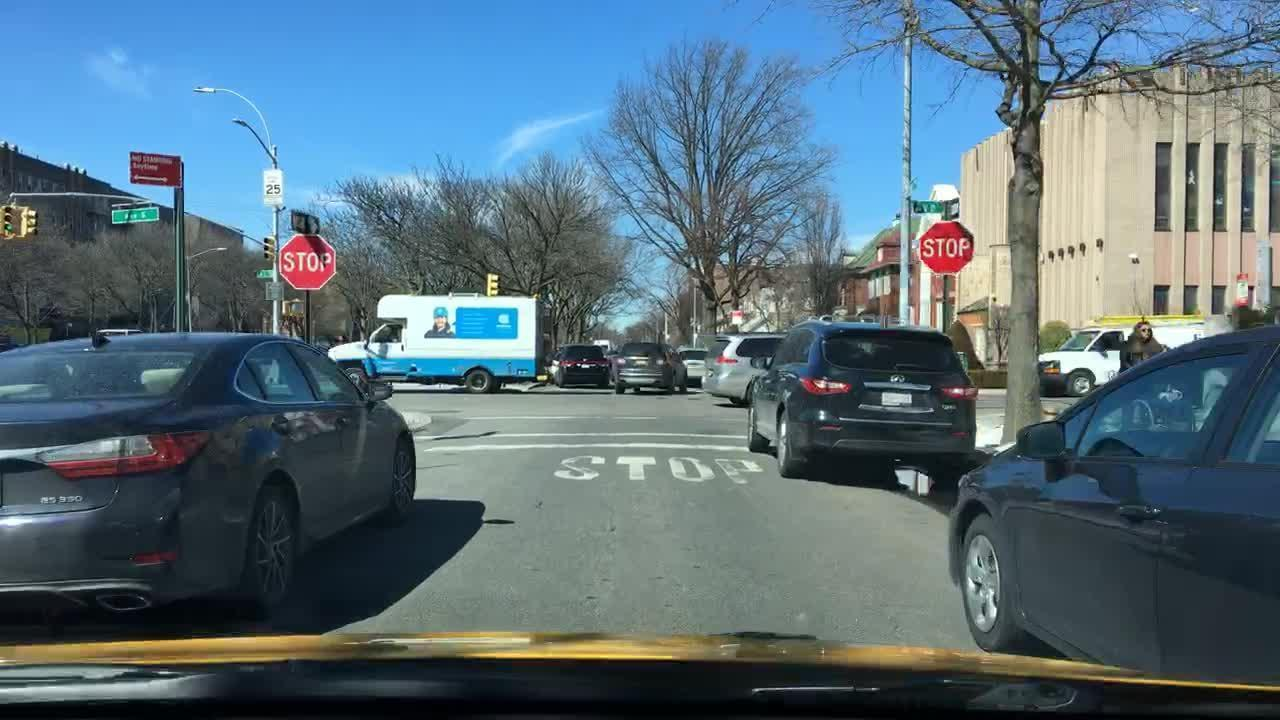Infiniti: (887, 373, 908, 386)
